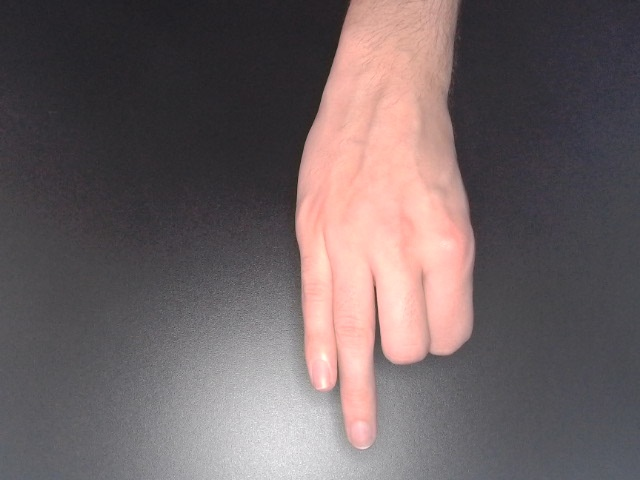n: (286, 1, 483, 457)
